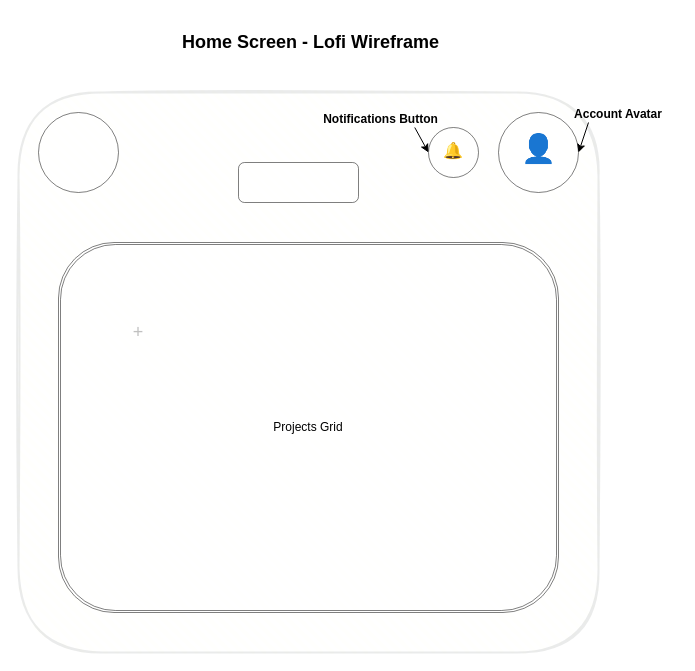
Some shapes in this 695 by 671 pixel diagram are drawn without their labels. Here are the shapes that lost their labels. From the top down, the centre of each, then its label:
(x=78, y=152): Logo Icon
(x=298, y=182): Organisation Selector
